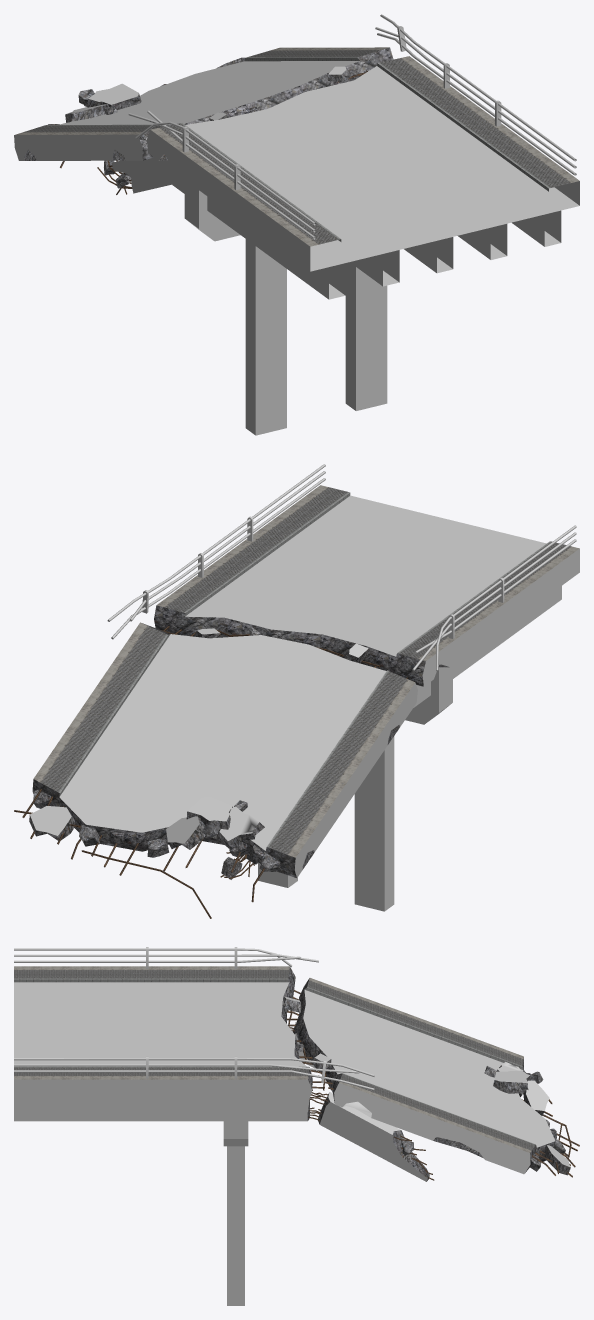
File: FirstBridgePart.fbx
The picture shows the model from 3 angles, top to bottom: view 1: azimuth 30°, elevation 25°; view 2: azimuth 150°, elevation 25°; view 3: azimuth 270°, elevation 25°; orthographic projection. The views are drawn at different scales.
Visible parts, largest first — view 1: overpass_des_LOD0; view 2: overpass_des_LOD0; view 3: overpass_des_LOD0.
Boxes of the visible parts, x1=… form: overpass_des_LOD0: x1=14, y1=14, x2=579, y2=435; overpass_des_LOD0: x1=14, y1=464, x2=579, y2=918; overpass_des_LOD0: x1=14, y1=947, x2=579, y2=1305.
Size of the model in its own units: 2931 by 3040 by 5643.
